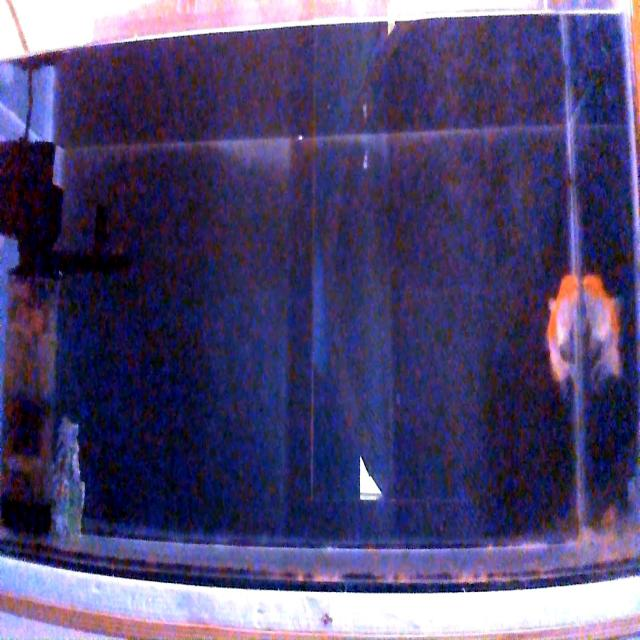fish: (582, 274, 620, 379), (547, 275, 580, 381)
